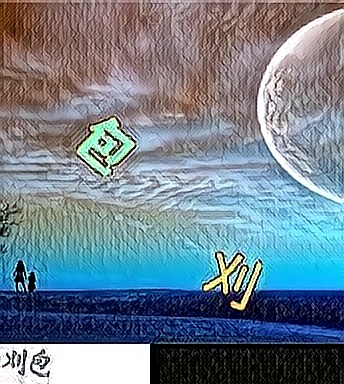B0FC: (76, 115, 140, 181)
D8D7: (199, 246, 263, 312)
